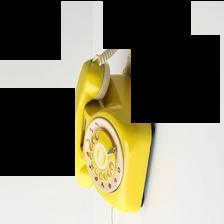yellow: (72, 59, 152, 212)
